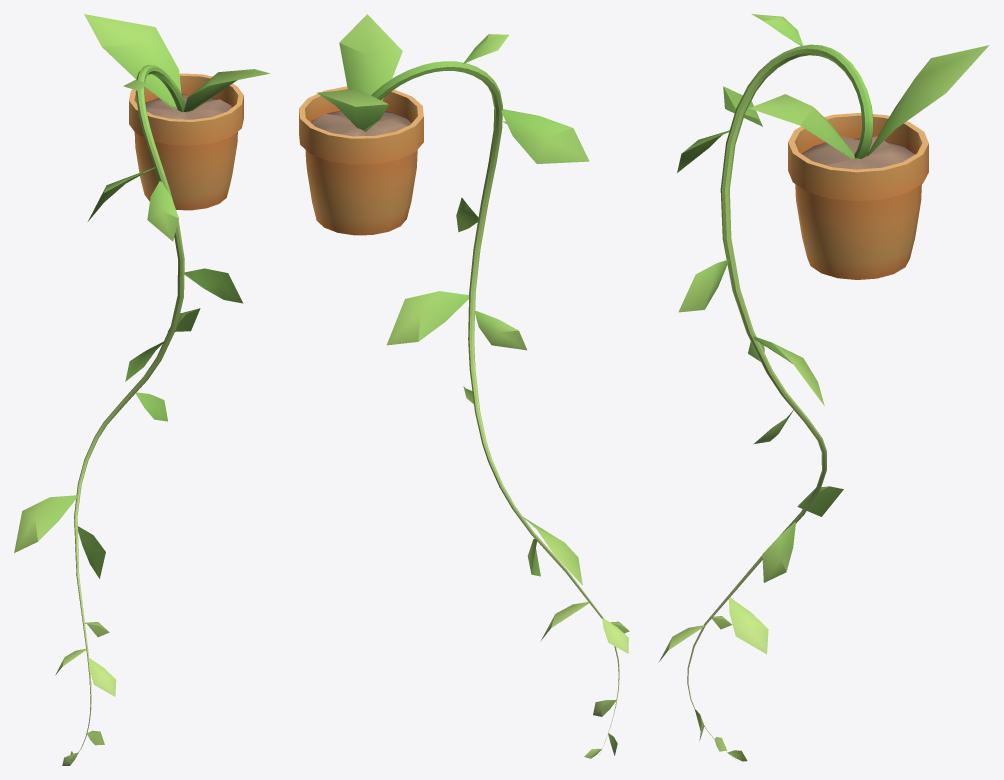
File: potted plant.fbx
The picture shows the model from 3 angles, left to right: view 1: azimuth 30°, elevation 25°; view 2: azimuth 150°, elevation 25°; view 3: azimuth 270°, elevation 25°; orthographic projection. The views are drawn at different scales.
Parts seen in each view (by area): view 1: flowerpot; view 2: flowerpot; view 3: flowerpot.
Part boxes in pixels (<box>): flowerpot: <box>14,14,270,765</box>; flowerpot: <box>299,14,629,758</box>; flowerpot: <box>658,14,989,762</box>.
Bounding box in the file's own units: 439 × 1154 × 435.
1 material, 1 textured.
